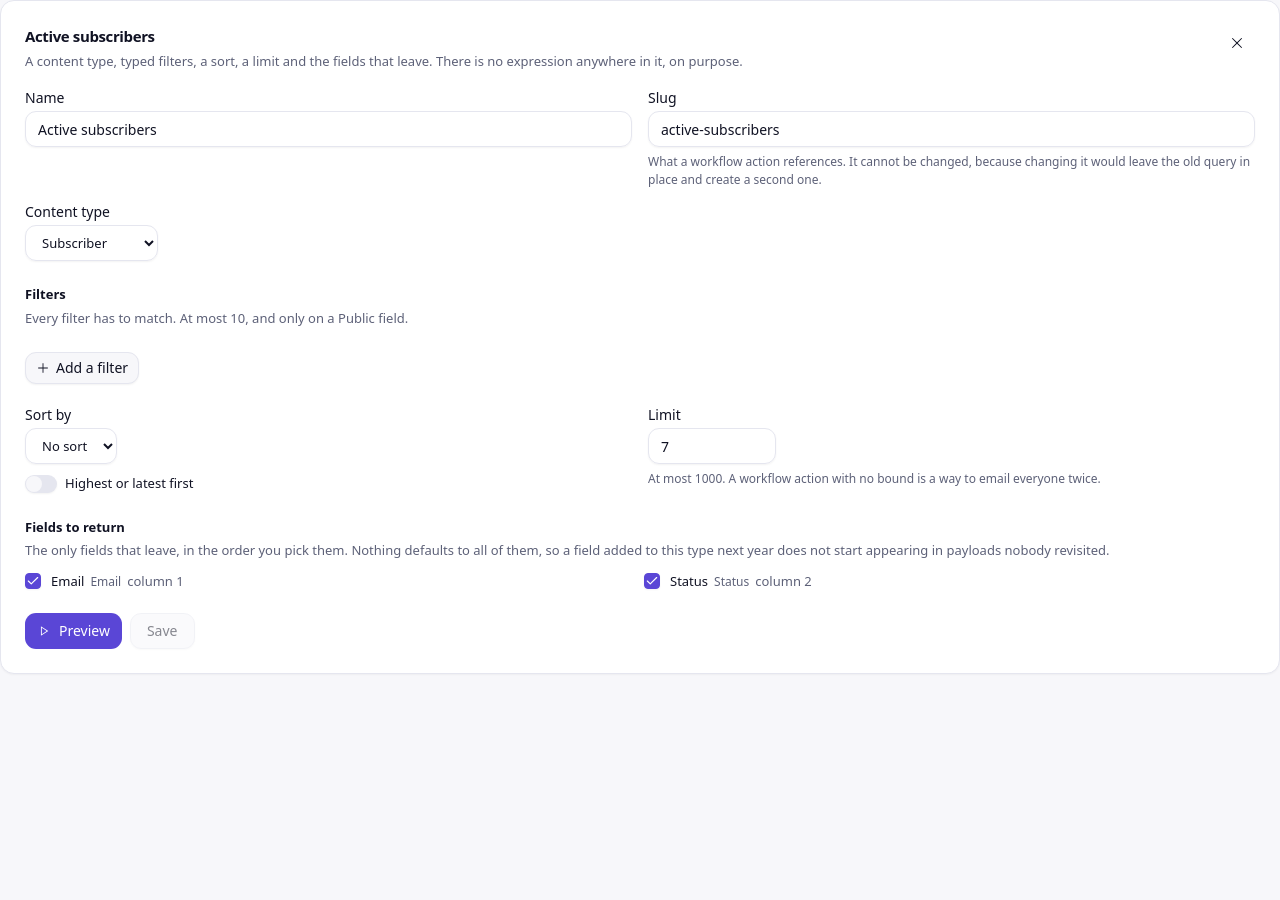
Scenario: the limit box › refuses an empty box rather than saving a default
Clear the number field labelled "Limit" at coordinates (712, 446), box [648,428,776,464]
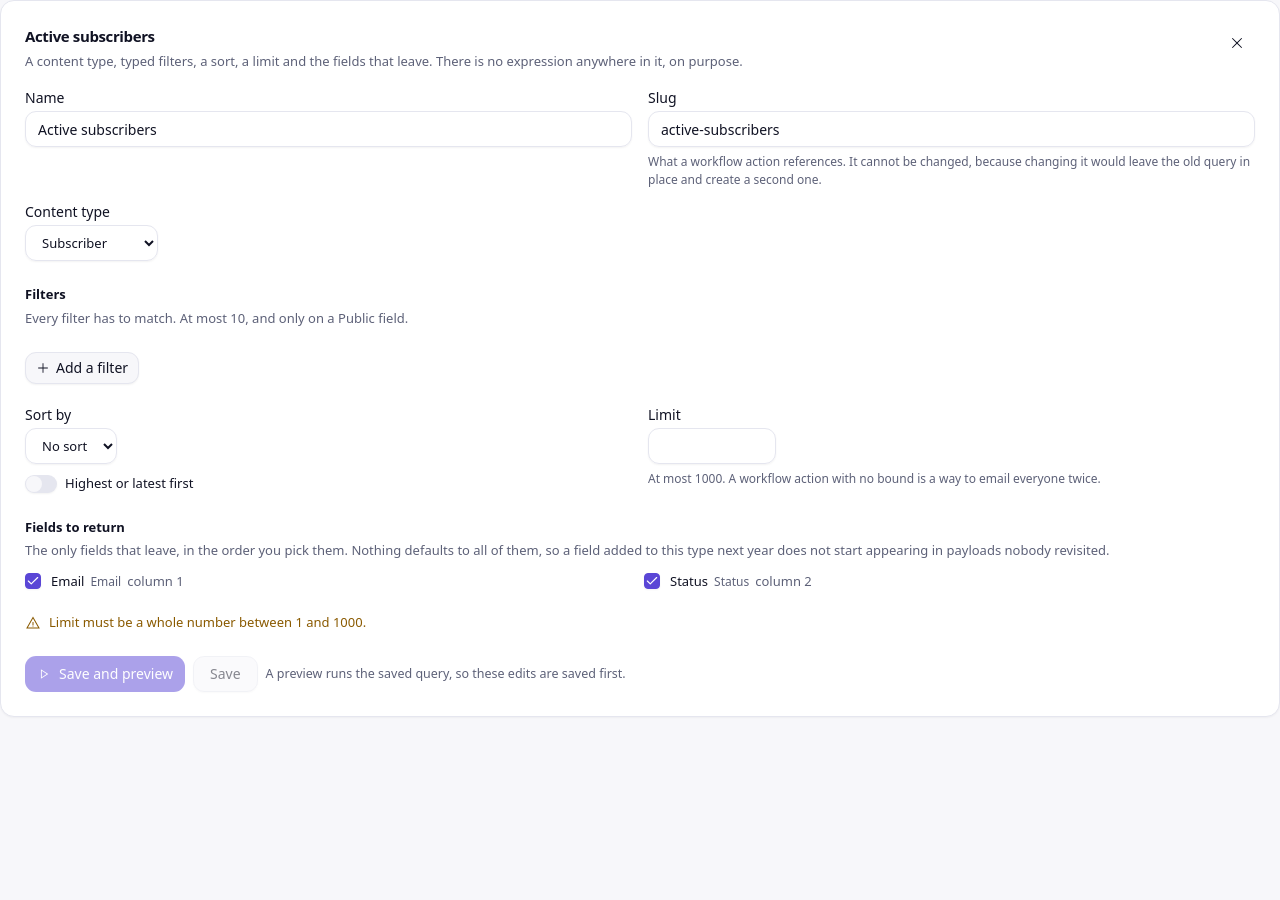
Expected: the button "Save" is disabled, [193,656,258,692]
Expected: the message shows "whole number", [49,613,366,631]
